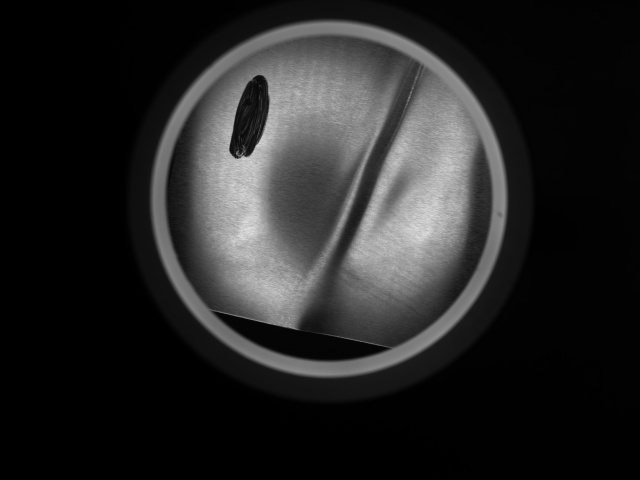zang_wu: (225, 74, 273, 160)
zhe_zhou: (206, 68, 446, 335)
